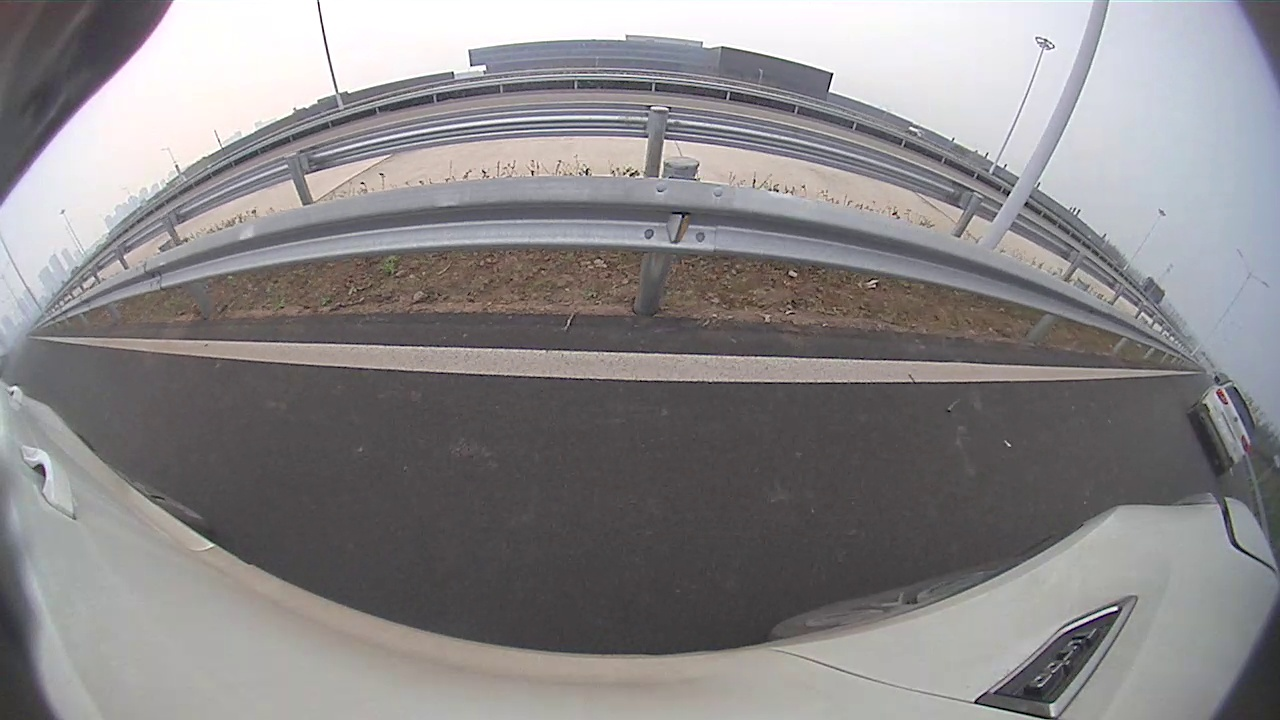car: (348, 148, 512, 250)
front: (494, 189, 509, 215)
rear: (437, 196, 462, 236)
